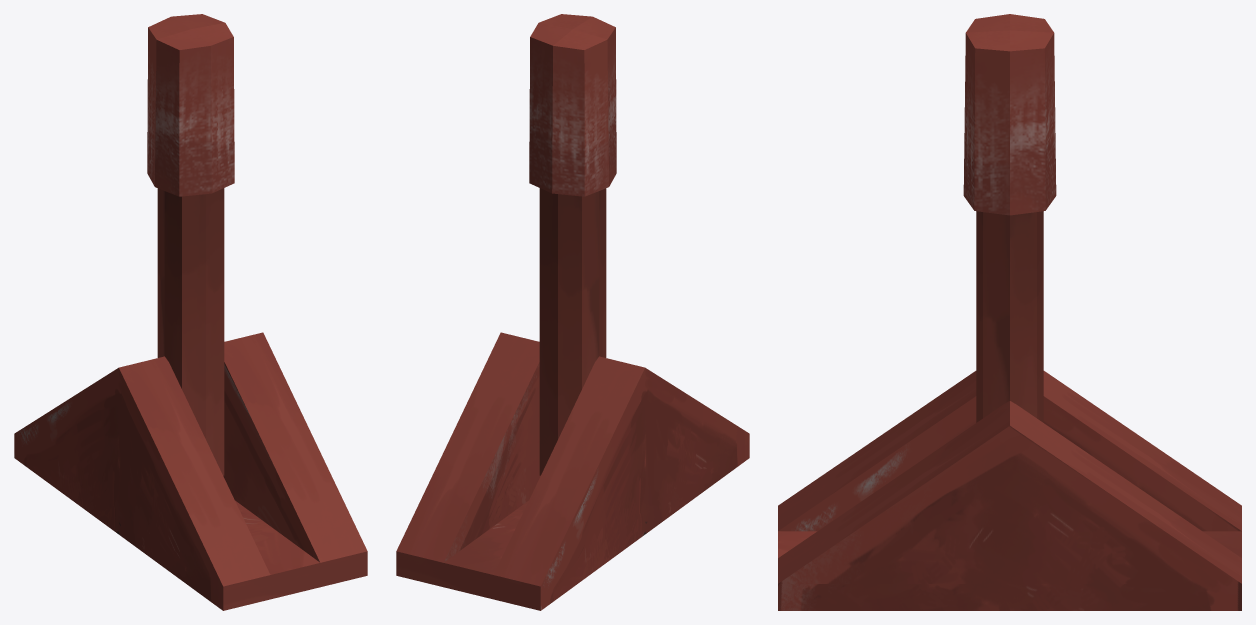
File: Lever01.fbx
3 views of the same model, side by side, from view 1: azimuth 30°, elevation 25°; view 2: azimuth 150°, elevation 25°; view 3: azimuth 270°, elevation 25° (orthographic). The views are drawn at different scales.
Visible parts, largest first — view 1: Lever01, Lever_handle01; view 2: Lever01, Lever_handle01; view 3: Lever01, Lever_handle01.
Part boxes in pixels (x1,y1,x2,y2): Lever01: (14,332,367,610); Lever_handle01: (147,14,234,475); Lever01: (396,332,749,610); Lever_handle01: (529,14,616,475); Lever01: (778,371,1241,610); Lever_handle01: (963,14,1056,422).
Bounding box in the file's own units: 0.2739 × 0.8836 × 0.6861.
Materials: 1 (1 with a texture image).
